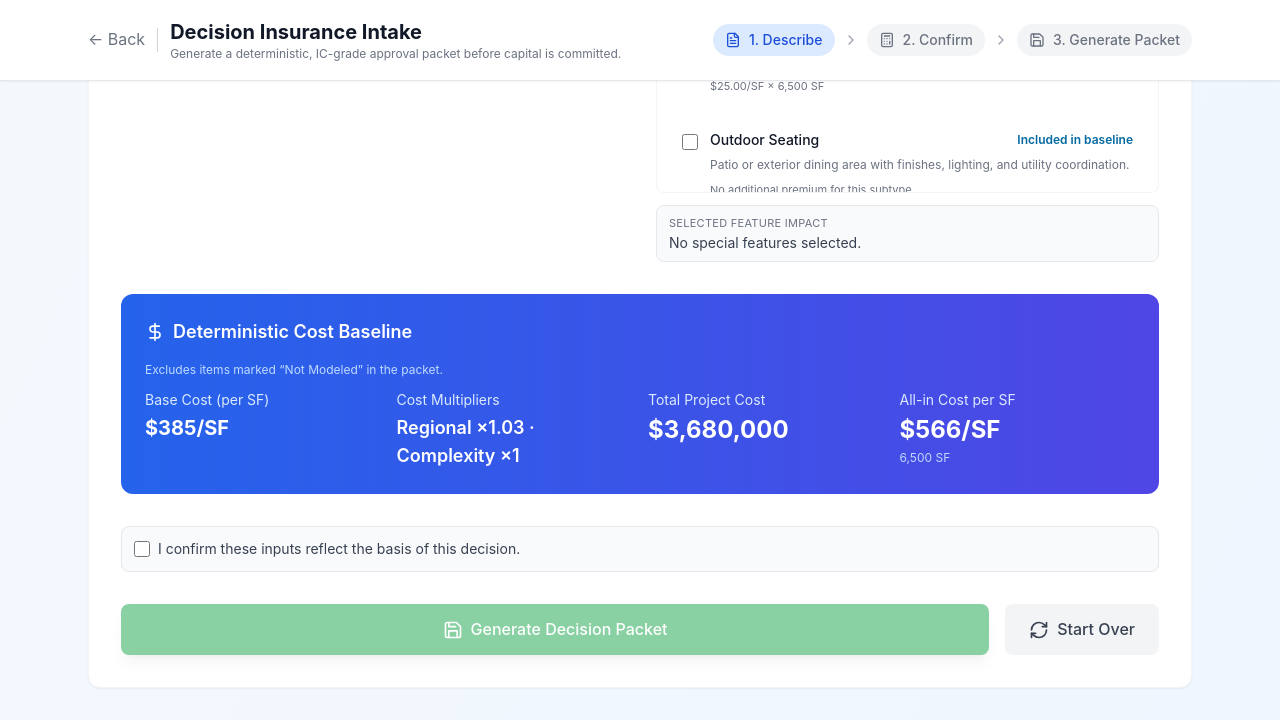
it: NewProject special feature pricing parity › shows the shared exhaustion fallback only for exact backend run_limit_reached responses
(page scrolled)
Click the checkbox labelled "I confirm these inputs reflect the basis of this decision.".
click(142, 549)  # box [134, 541, 150, 557]
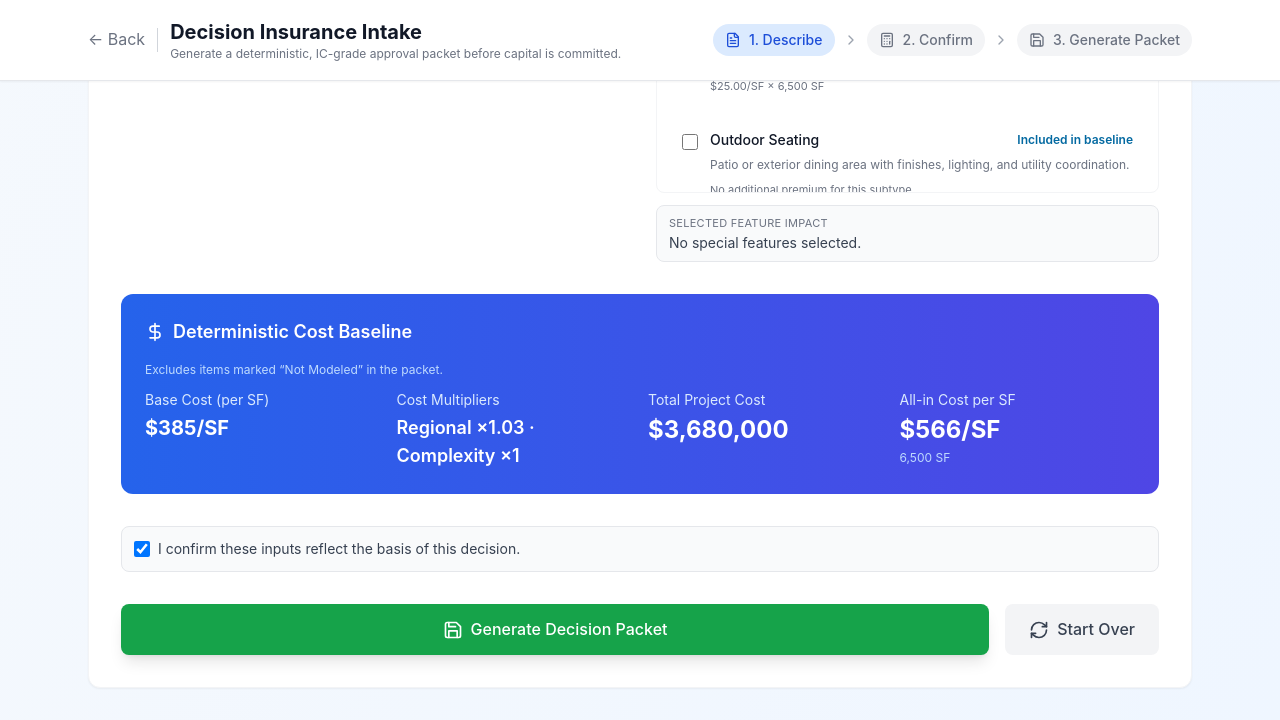
Click the button "Generate Decision Packet".
click(555, 630)  # box [121, 604, 989, 655]
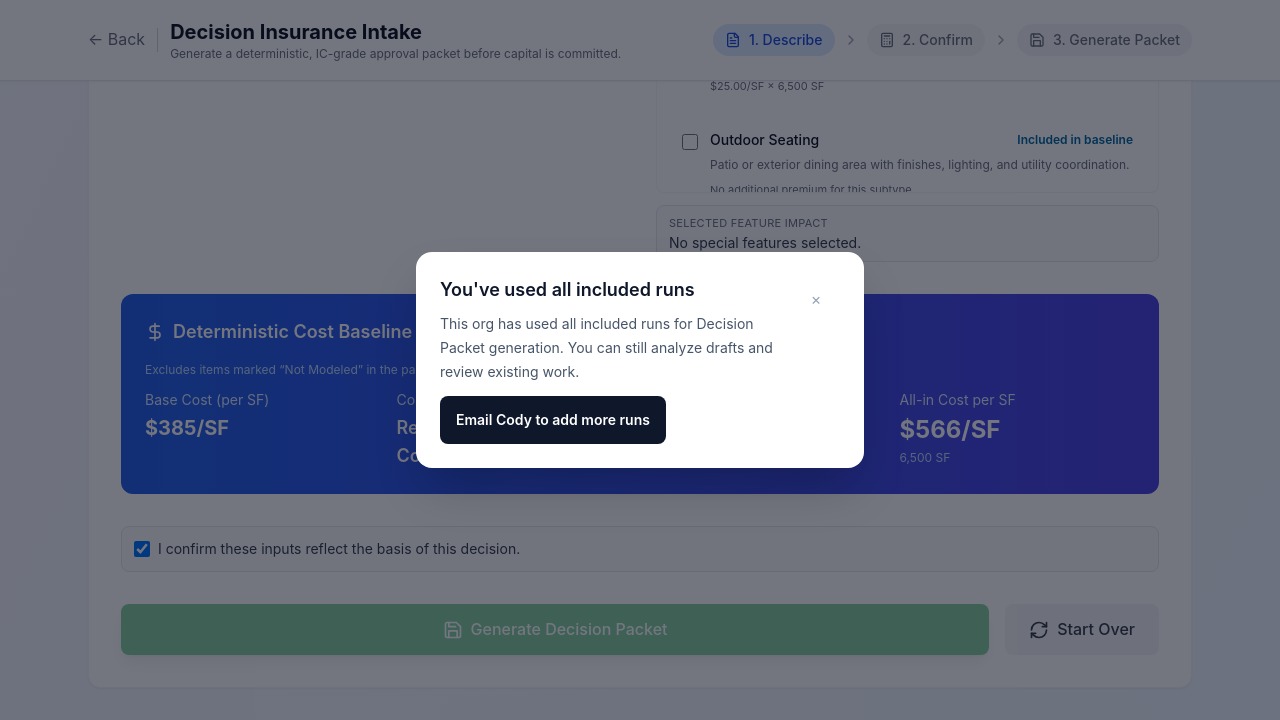
Expected: the dialog "You've used all included runs" is shown, [416, 252, 864, 468]
